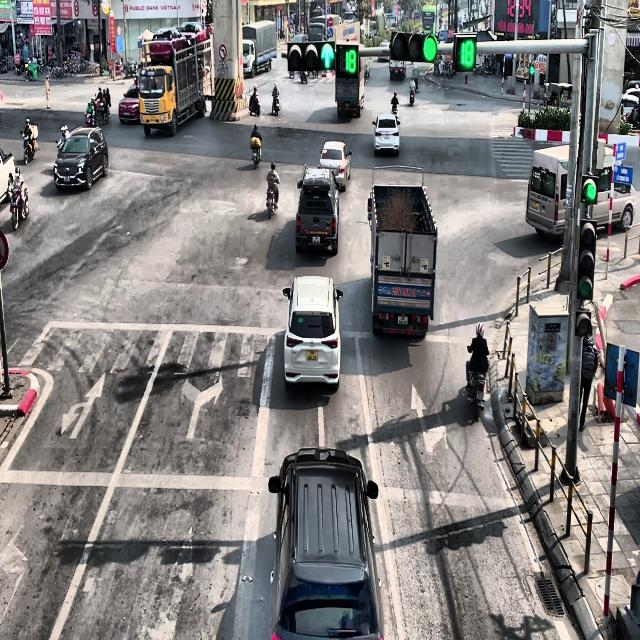lisence_plate: (305, 348, 318, 362), (396, 314, 408, 326), (311, 235, 321, 245)
